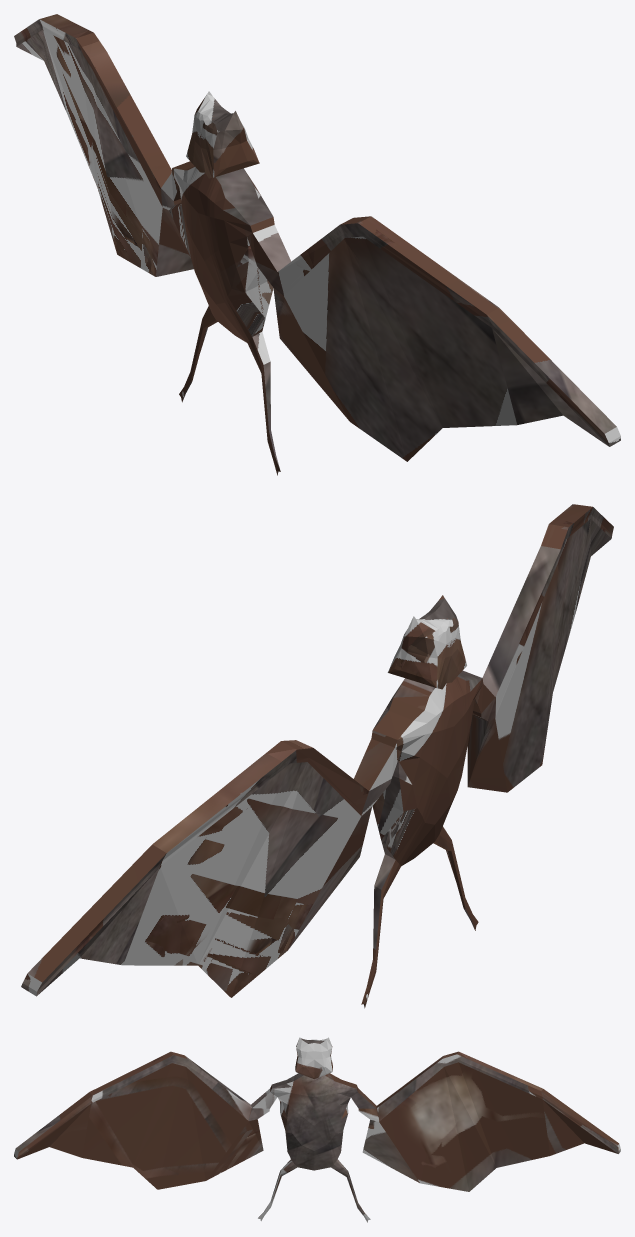
Rendered from Enemigo126.obj.
3 renders of one model, top to bottom at view 1: azimuth 30°, elevation 25°; view 2: azimuth 150°, elevation 25°; view 3: azimuth 270°, elevation 25°, orthographic. The views are drawn at different scales.
Parts seen in each view (by area): view 1: Plano; view 2: Plano; view 3: Plano.
Part boxes in pixels (left/top/right/bottom): Plano: left=14, top=14, right=620, bottom=475; Plano: left=21, top=504, right=613, bottom=1008; Plano: left=14, top=1037, right=620, bottom=1222.
Size of the model in its own units: 0.3434 by 0.7579 by 2.27.
1 material, 1 textured.
